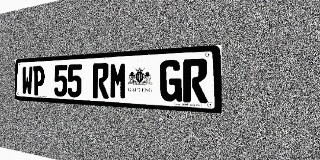5: (68, 64, 82, 97), (54, 65, 67, 97)
G: (160, 59, 182, 102)
M: (109, 62, 127, 100)
P: (33, 66, 45, 96)
R: (183, 58, 208, 103), (93, 63, 109, 99)
W: (22, 66, 33, 95)
